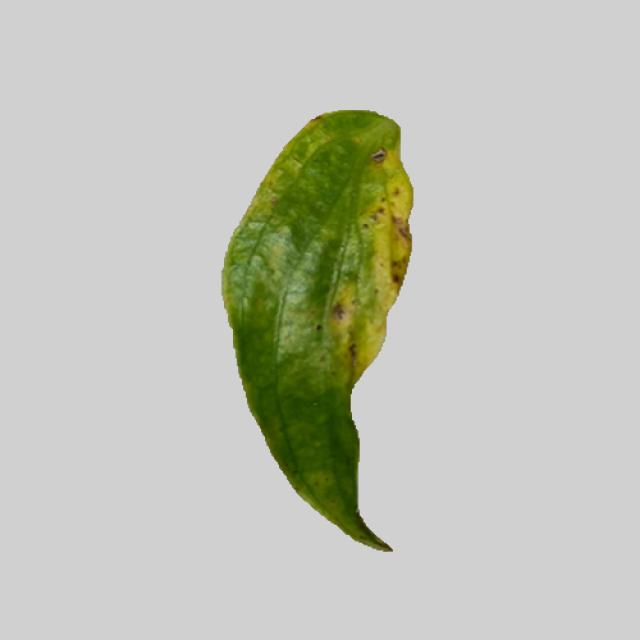yellow-mottle-virus: (207, 109, 415, 552)
